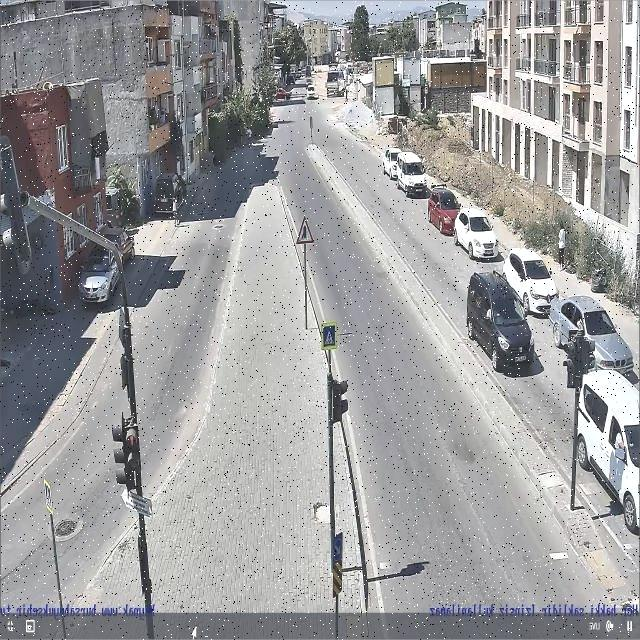Car: (466, 271, 536, 371), (550, 294, 634, 372), (78, 225, 135, 301), (505, 250, 559, 314), (454, 207, 497, 258), (427, 188, 462, 235), (154, 173, 187, 217), (395, 151, 427, 196), (382, 148, 403, 180)
Van: (574, 372, 639, 529)
